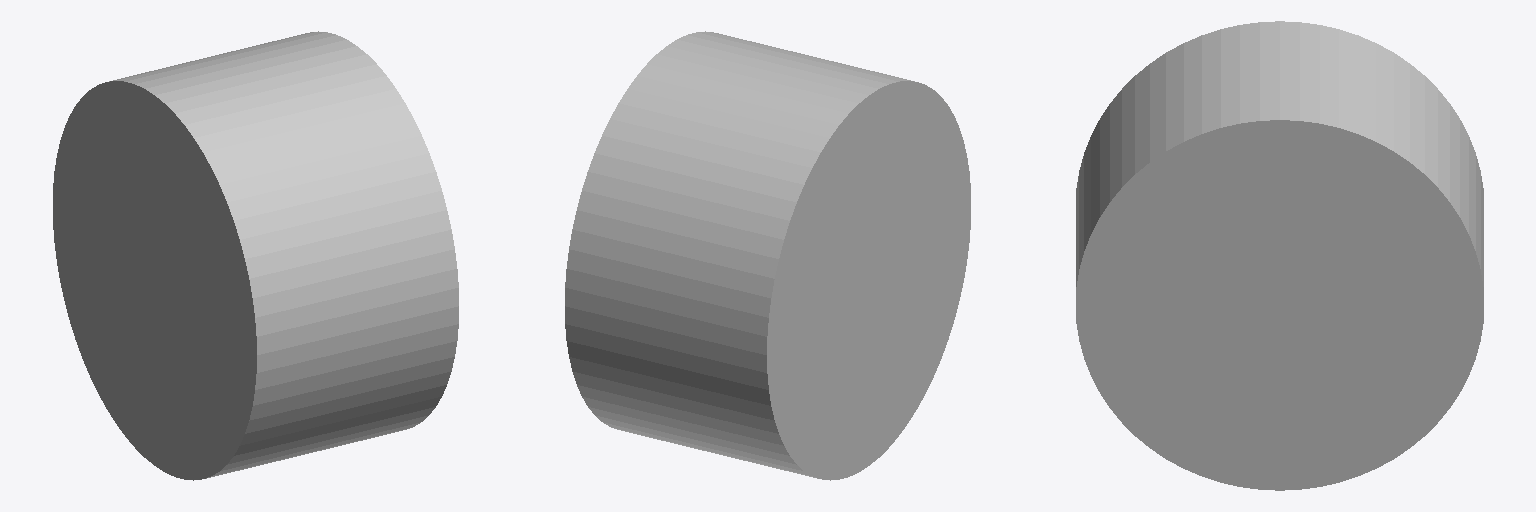
File: knot.obj
3 views of the same model, side by side, from view 1: azimuth 30°, elevation 25°; view 2: azimuth 150°, elevation 25°; view 3: azimuth 270°, elevation 25° (orthographic).
Size of the model in its own units: 1.4 by 2.45 by 2.45.